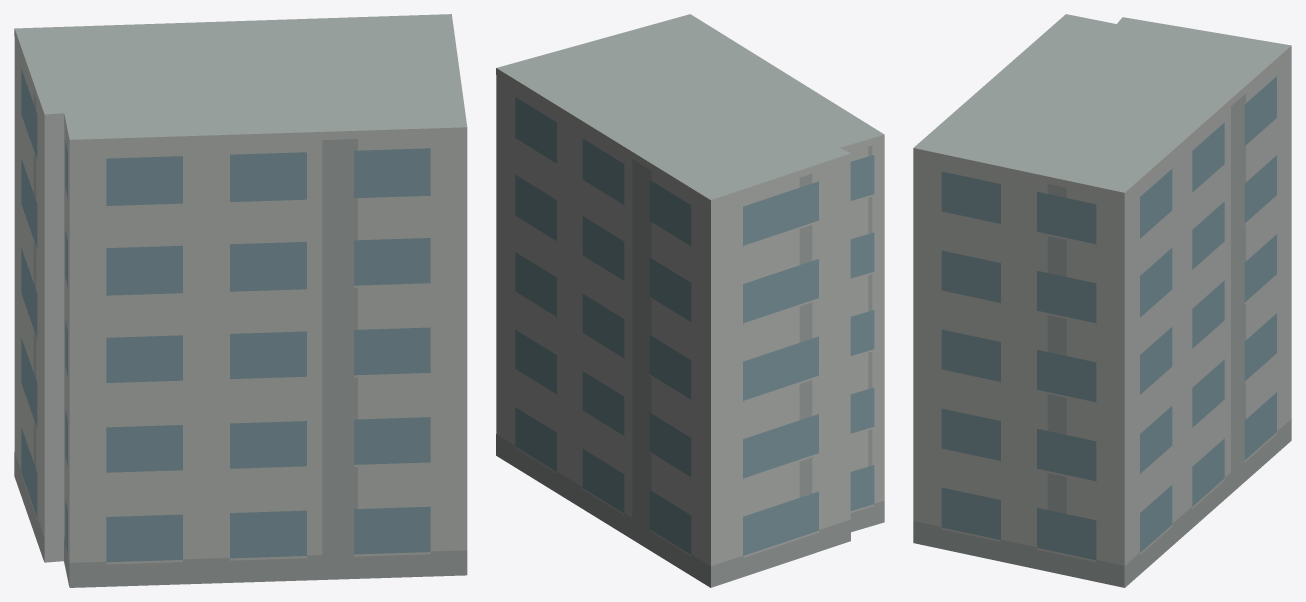
File: survey-upis-32906516.glb
The picture shows the model from 3 angles, left to right: view 1: azimuth 30°, elevation 25°; view 2: azimuth 150°, elevation 25°; view 3: azimuth 270°, elevation 25°; orthographic projection. The views are drawn at different scales.
Parts seen in each view (by area): view 1: survey-upis-32906516.tmp; view 2: survey-upis-32906516.tmp; view 3: survey-upis-32906516.tmp.
Part boxes in pixels (left/top/right/bottom): survey-upis-32906516.tmp: left=14, top=14, right=467, bottom=587; survey-upis-32906516.tmp: left=496, top=14, right=884, bottom=587; survey-upis-32906516.tmp: left=913, top=14, right=1291, bottom=587.
Bounding box in the file's own units: 12.82 × 13.2 × 11.47.
